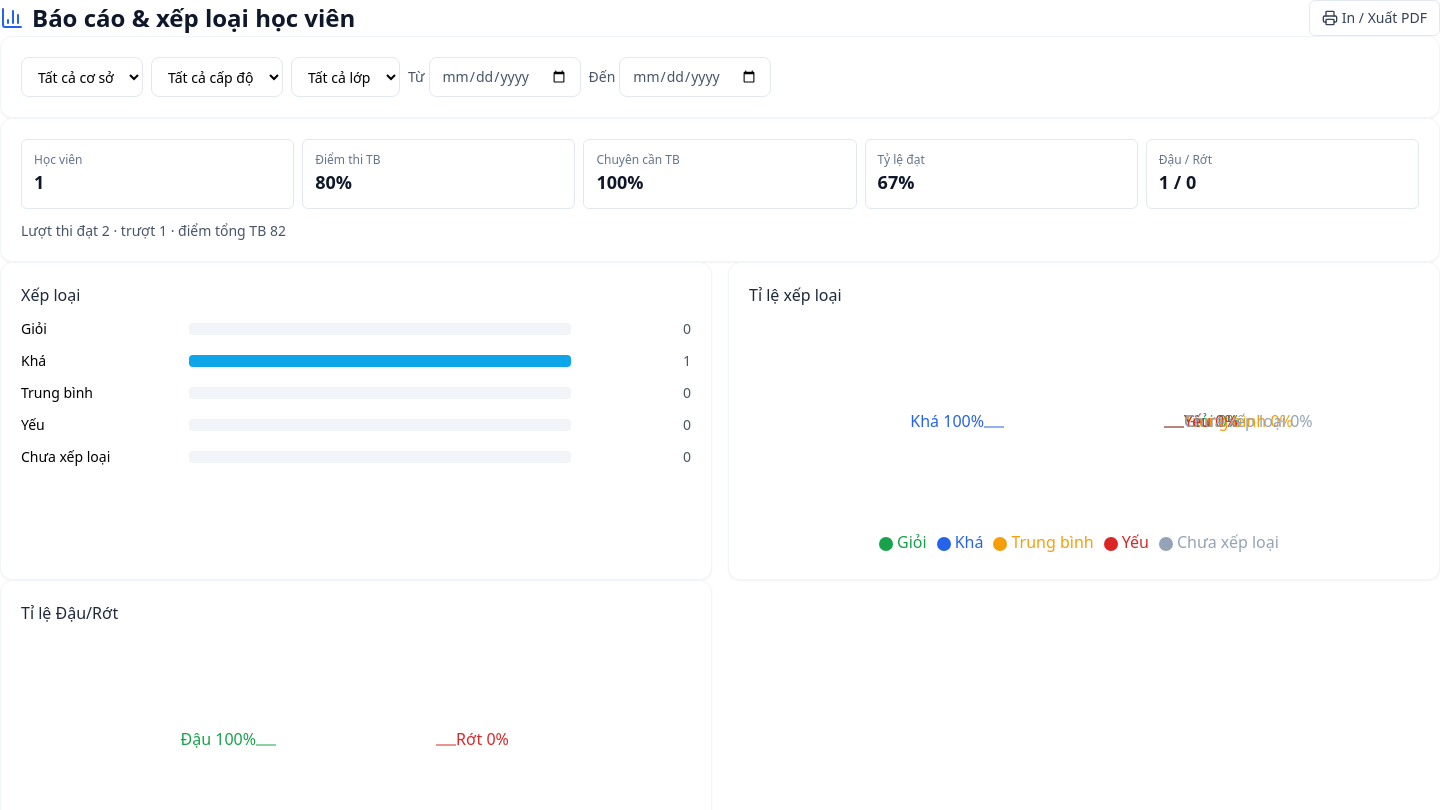
Test case: ReportsPage › shows ranking with retake tracking, filters by branch and saves only a valid policy
Select "Cơ sở 1" in the dropdown named "Cơ sở" at (82, 77), box [21,57,143,97]
(page scrolled)
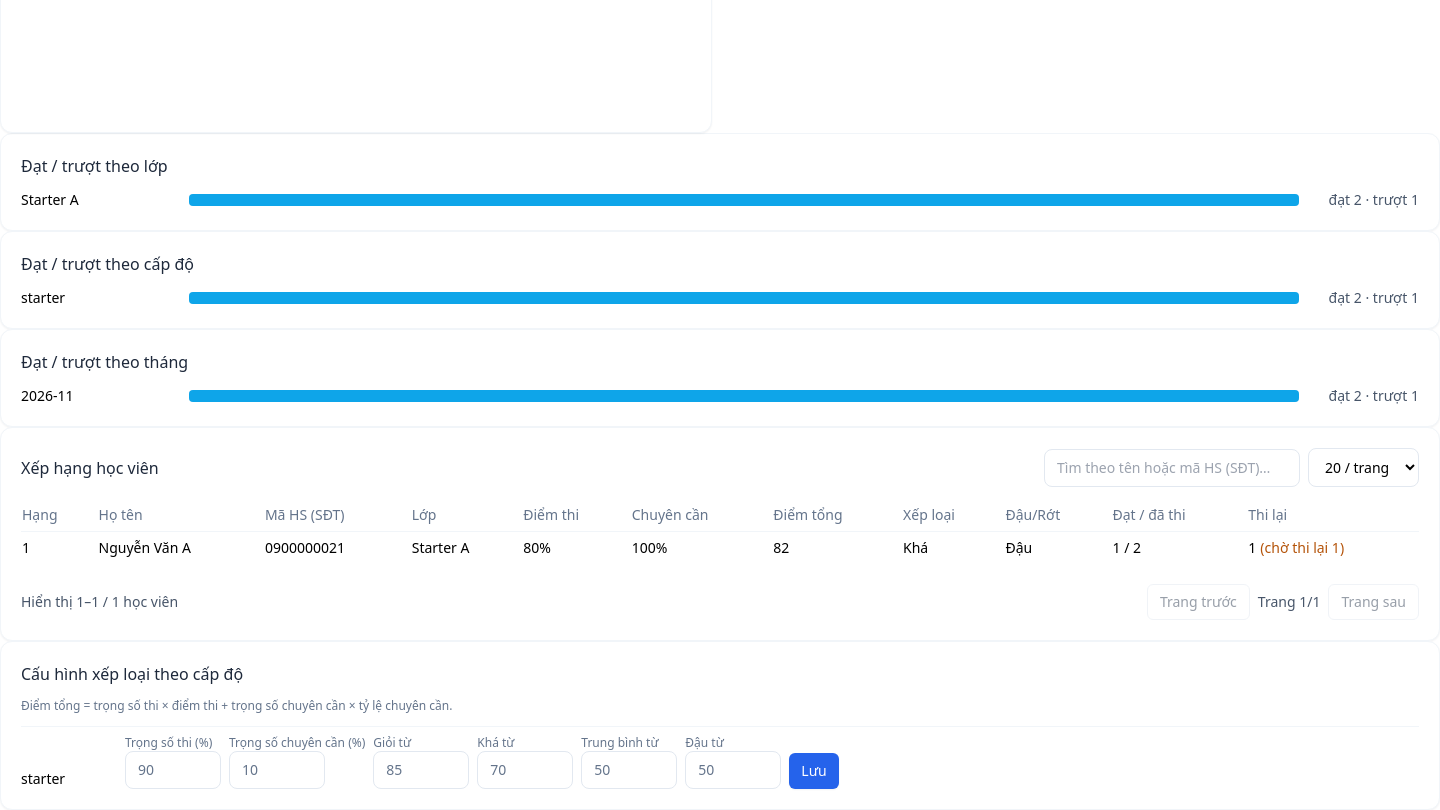
# Weights must sum to 100: rejected locally, nothing is sent.
Replace the text in the number field named "starter Trọng số thi (%)" with "80" at (173, 770), box [125,751,221,789]
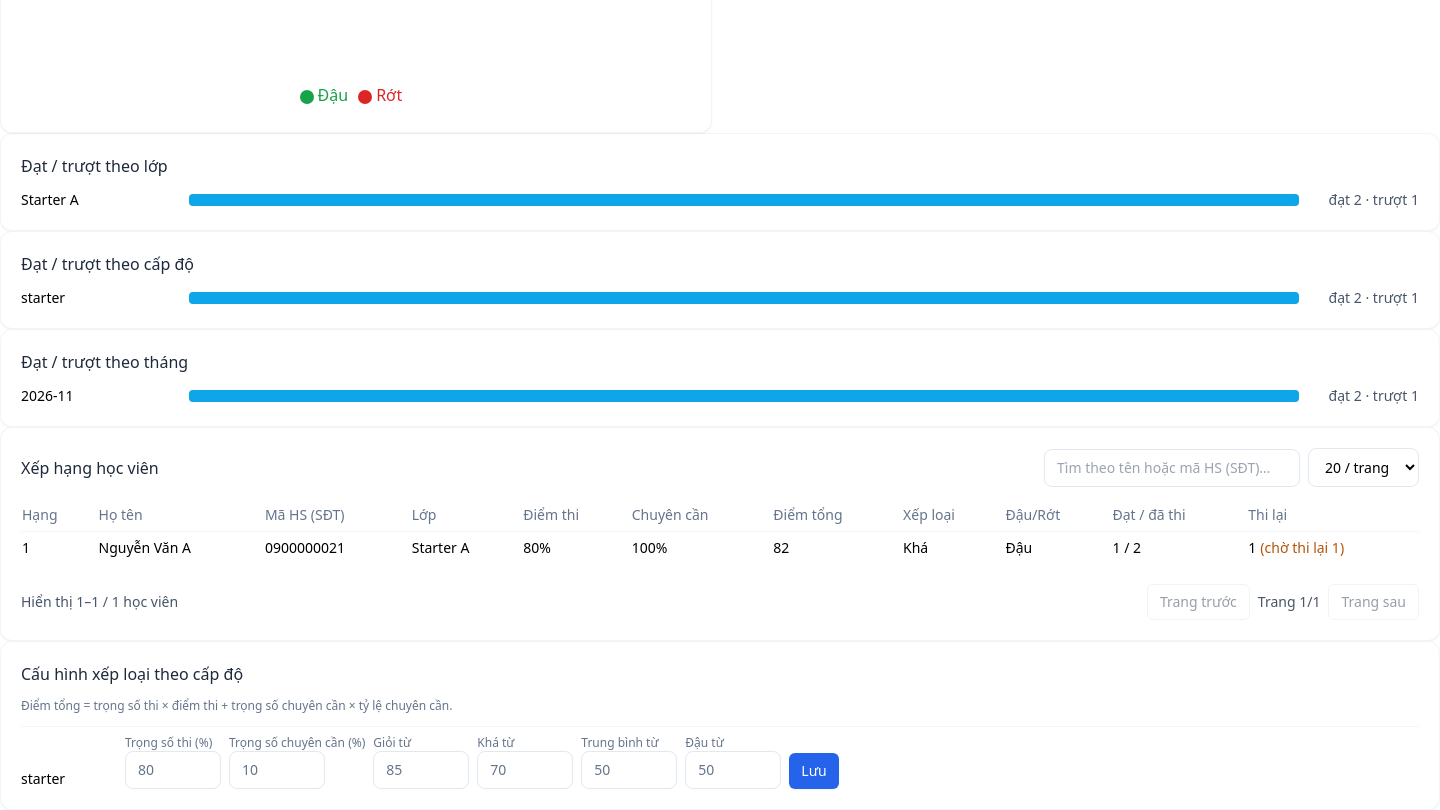
Click the button "Lưu" at (814, 771), box [789,753,839,789]
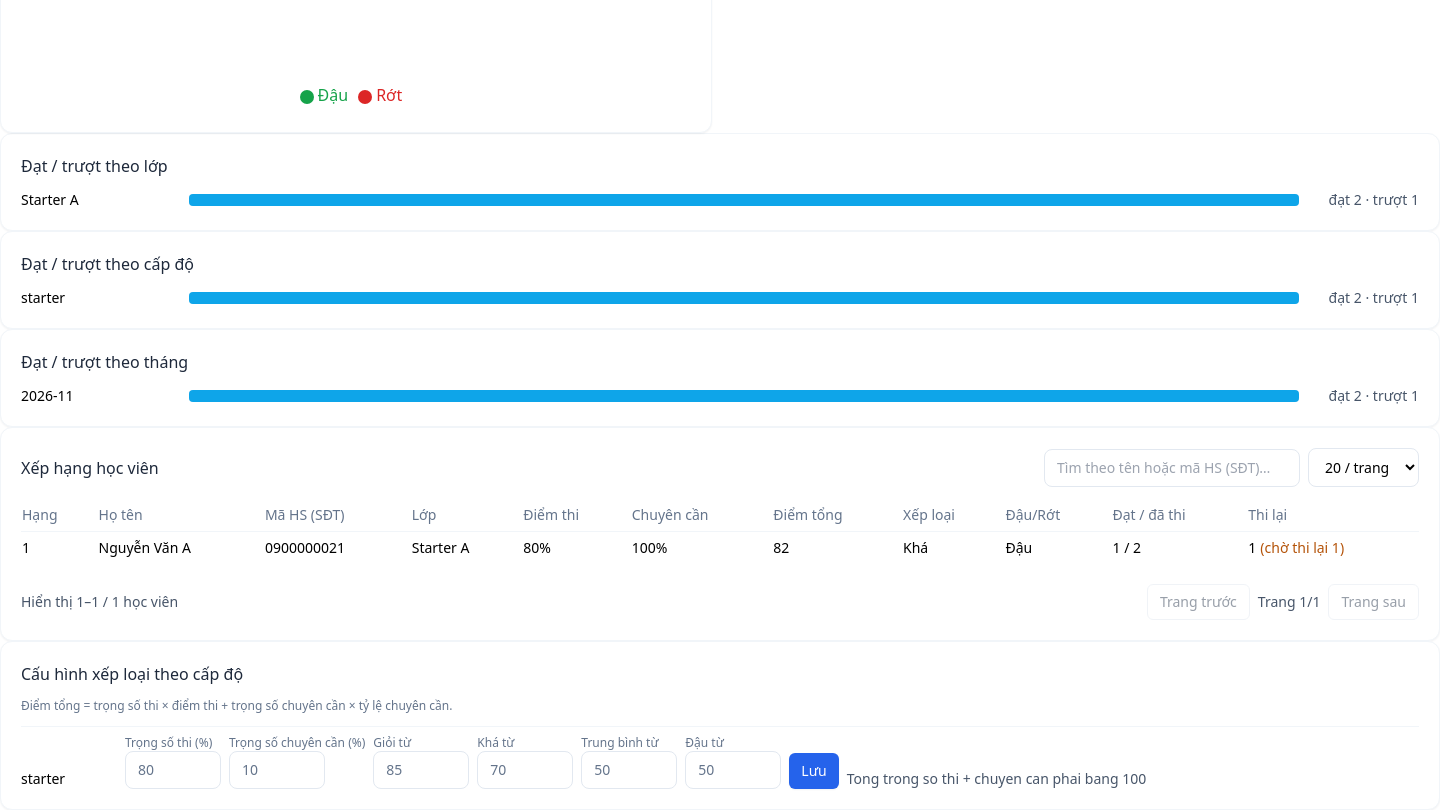
Check: the text "Tong trong so thi + chuyen can phai bang 100" is shown, box [847,769,1146,789]
Replace the text in the number field named "starter Trọng số chuyên cần (%)" with "20" at (277, 770), box [229,751,325,789]
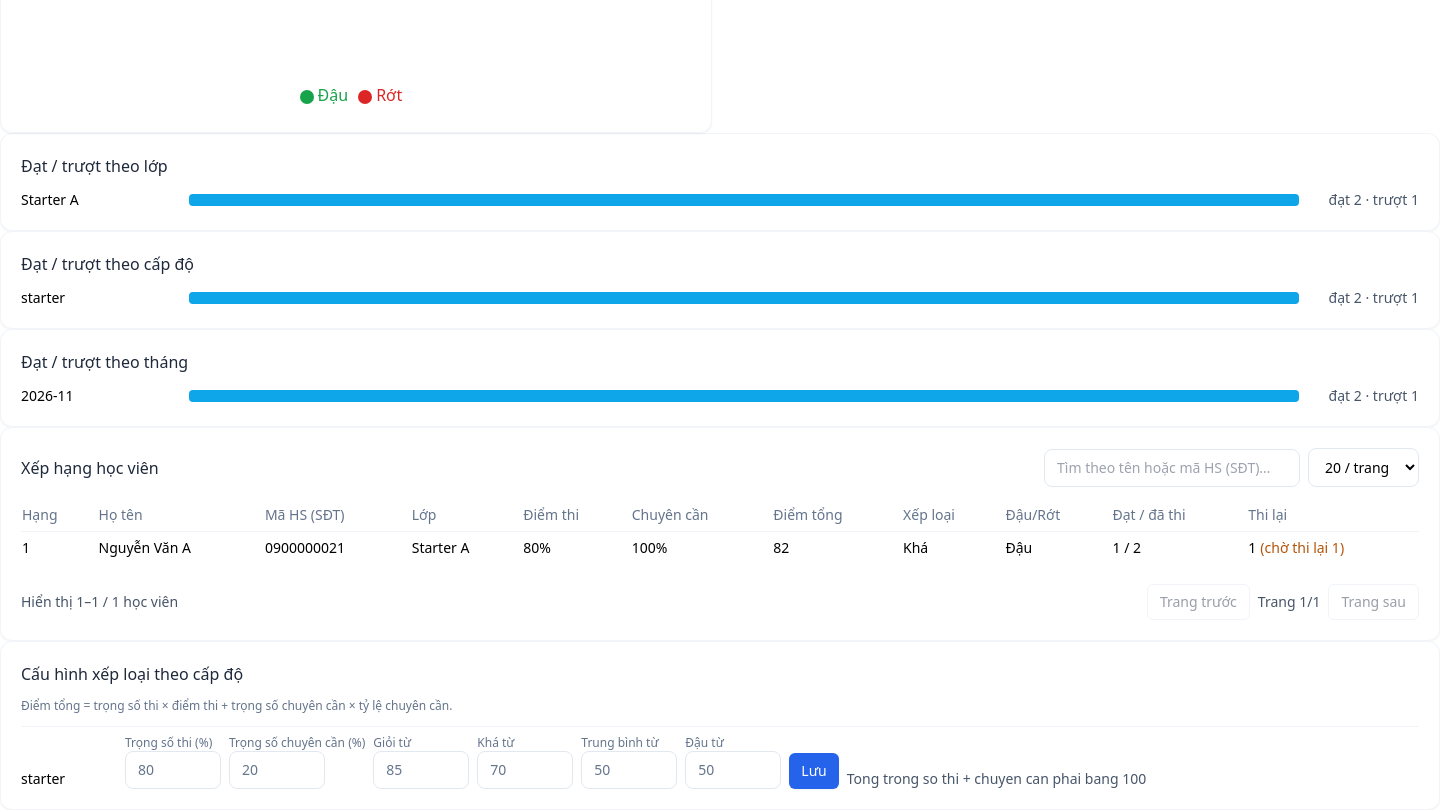
Click the button "Lưu" at (814, 771), box [789,753,839,789]
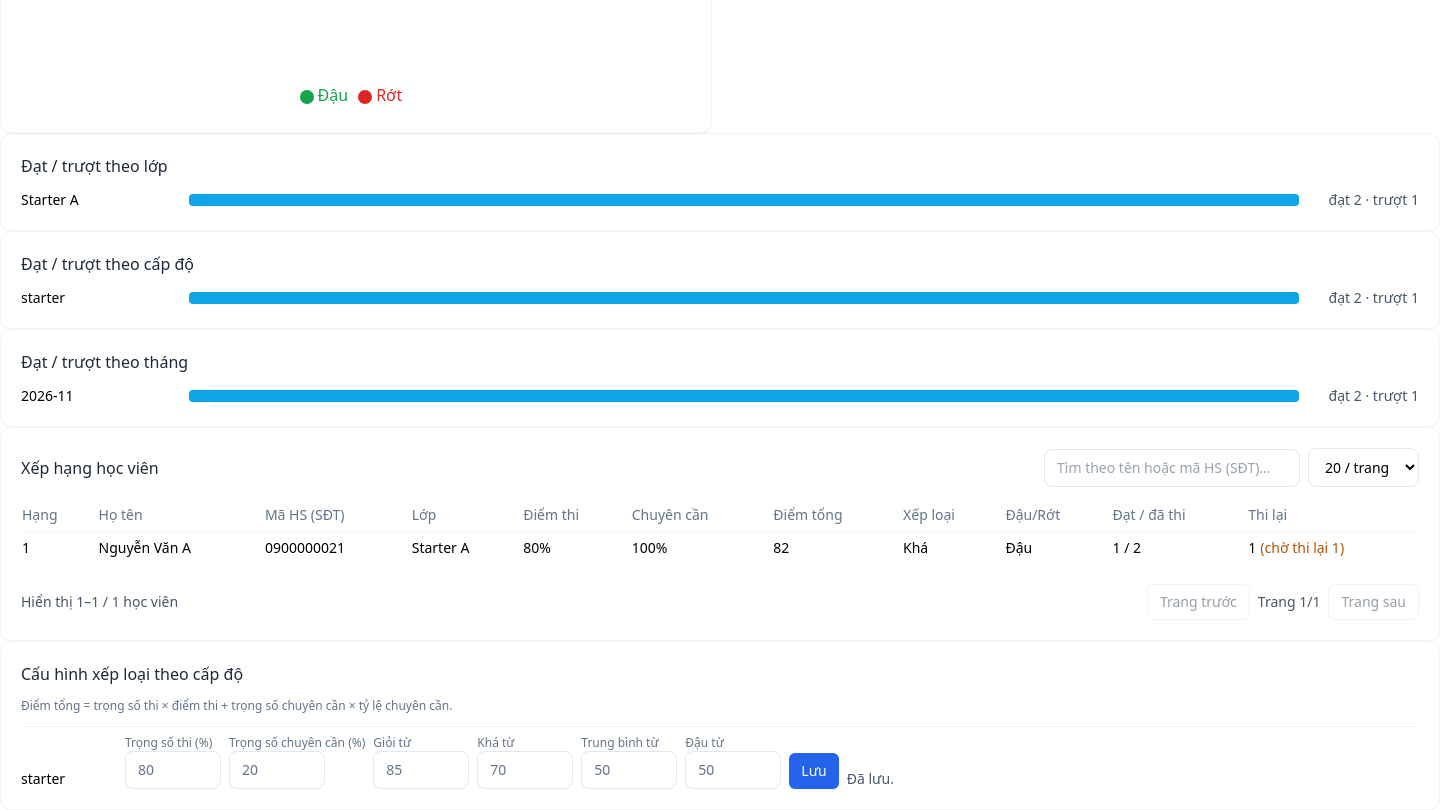
Check: the text "Đã lưu." is shown, box [847,769,894,789]
